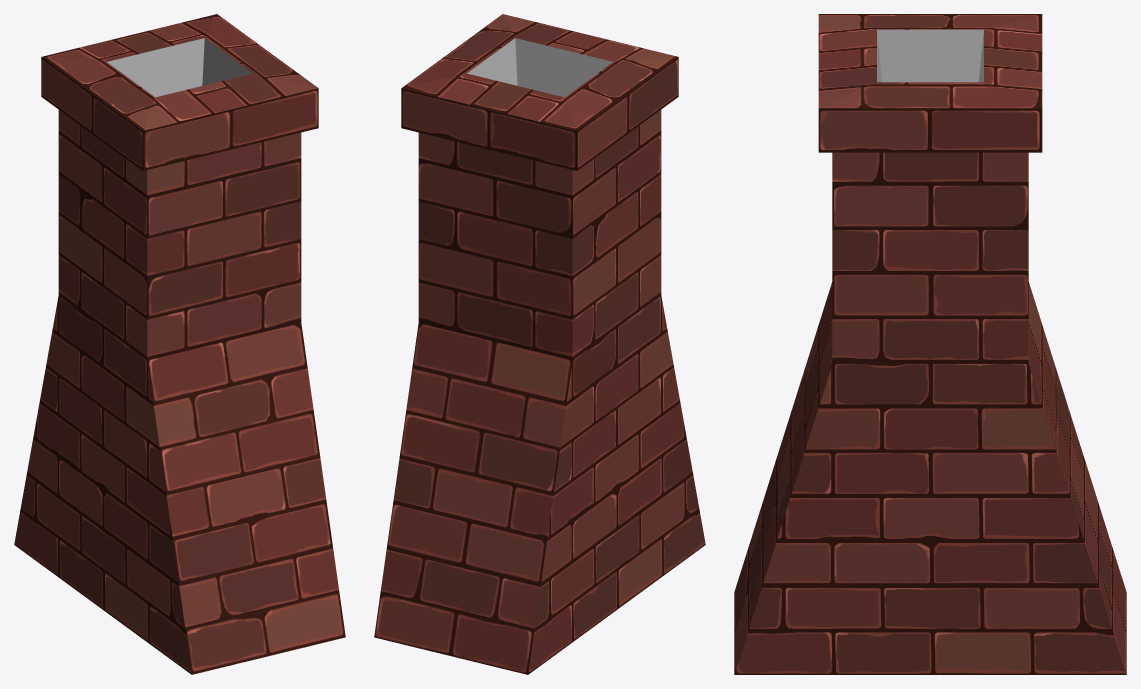
File: chimney_top.fbx
3 views of the same model, side by side, from view 1: azimuth 30°, elevation 25°; view 2: azimuth 150°, elevation 25°; view 3: azimuth 270°, elevation 25° (orthographic). The views are drawn at different scales.
Visible parts, largest first — view 1: chimney_top; view 2: chimney_top; view 3: chimney_top.
Part boxes in pixels (x1,y1,x2,y2): chimney_top: (14,14,345,674); chimney_top: (374,14,705,674); chimney_top: (734,14,1126,674).
Size of the model in its own units: 114 by 325 by 200.
